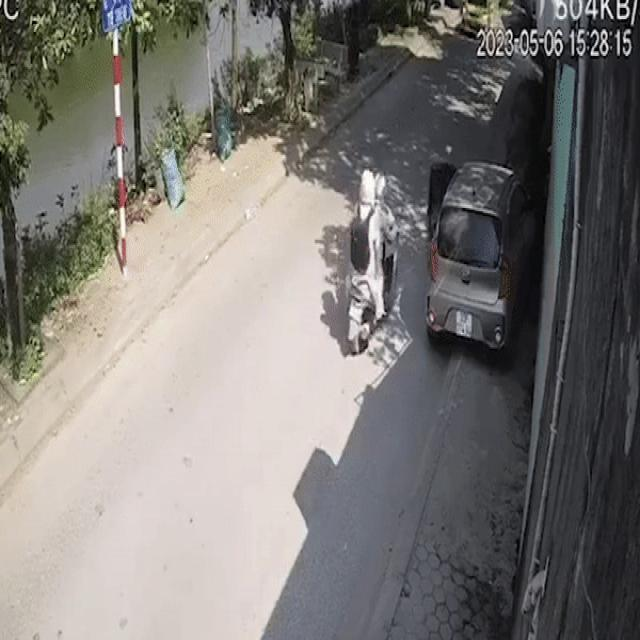normal: (331, 144, 409, 349)
